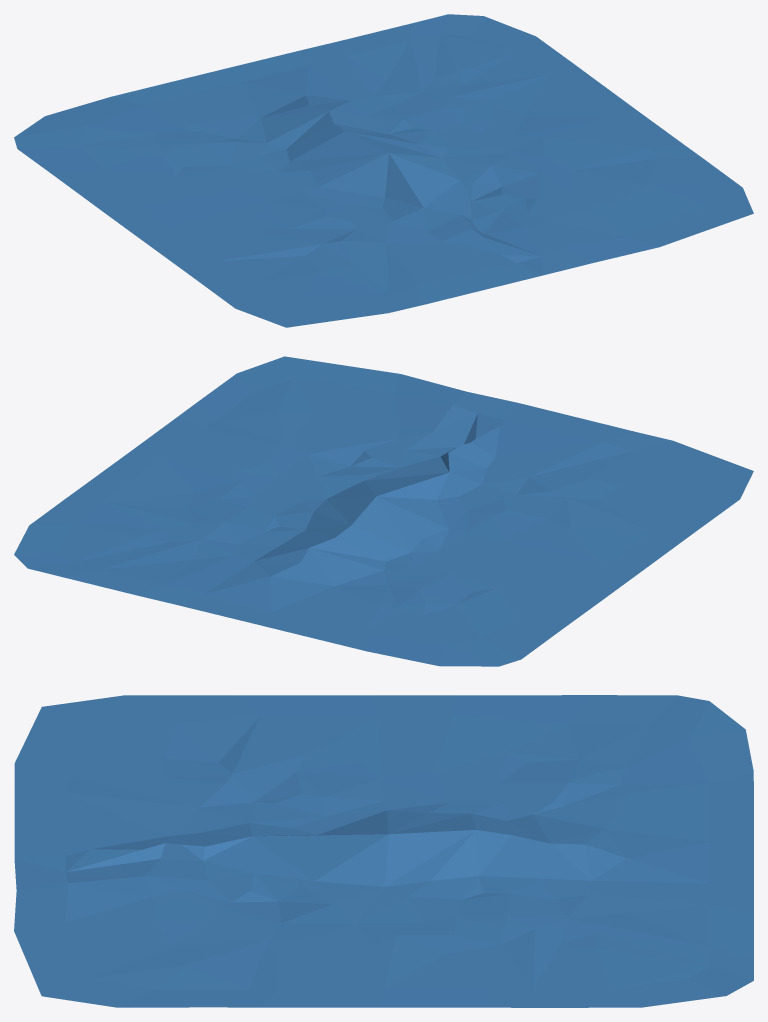
File: Water Type B.fbx
The picture shows the model from 3 angles, top to bottom: view 1: azimuth 30°, elevation 25°; view 2: azimuth 150°, elevation 25°; view 3: azimuth 270°, elevation 25°; orthographic projection. The views are drawn at different scales.
Visible parts, largest first — view 1: Water Type B; view 2: Water Type B; view 3: Water Type B.
Part boxes in pixels (x1,y1,x2,y2): Water Type B: [14, 14, 753, 327]; Water Type B: [14, 356, 753, 666]; Water Type B: [14, 695, 753, 1007].
Size of the model in its own units: 1985 by 71.9 by 1986.
